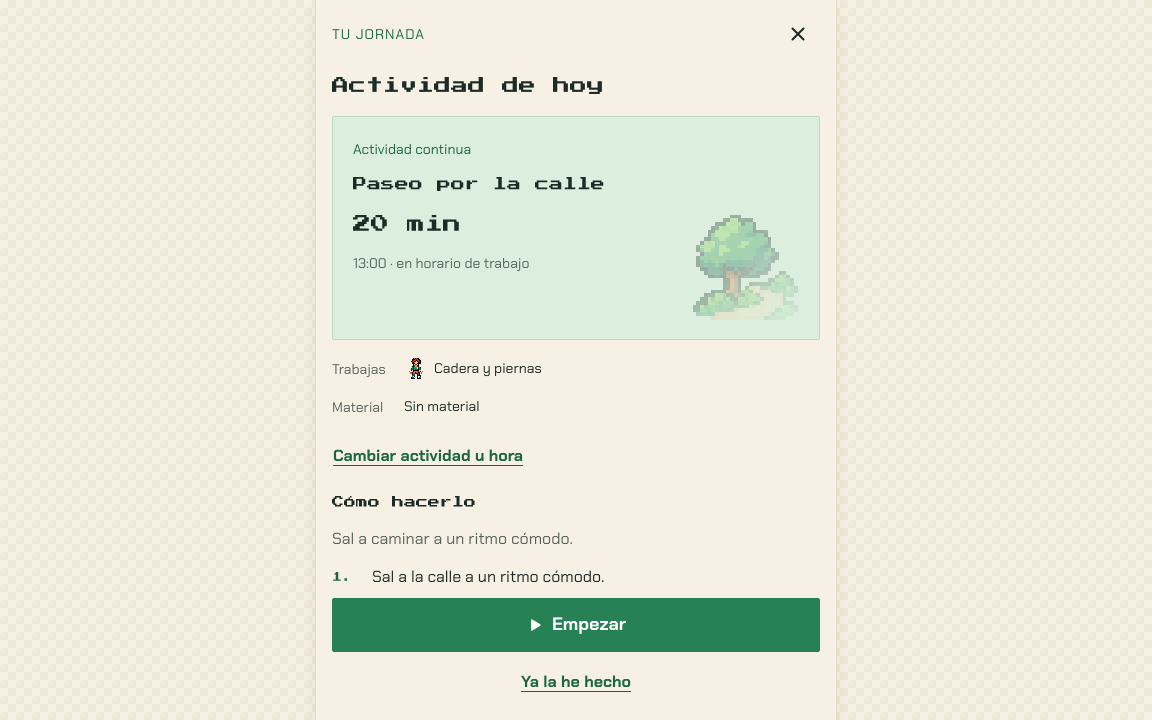
Test: main activity, before starting › changes the activity or its time, keeping the pauses
This screenshot has width=1152, height=720.
Click the button "Cambiar actividad u hora" at (428, 455), box [332, 433, 524, 477]
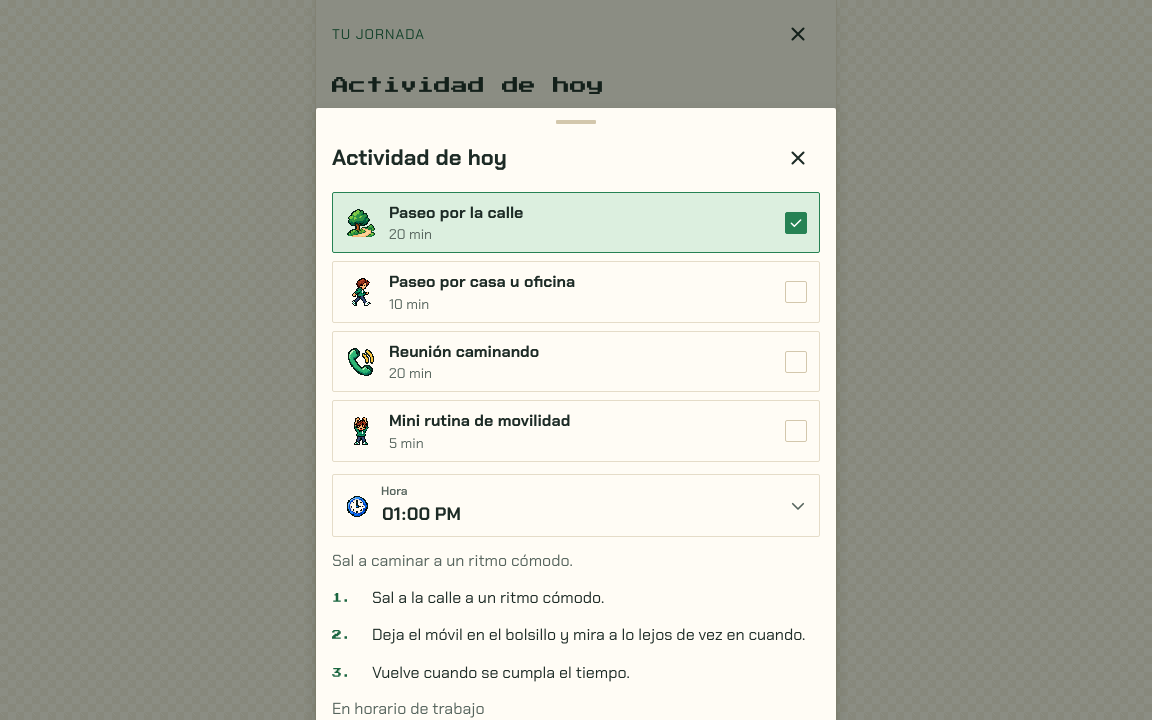
Click the radio button labelled "Paseo por casa u oficina 10 min" at (576, 292), box [332, 262, 820, 323]
(page scrolled)
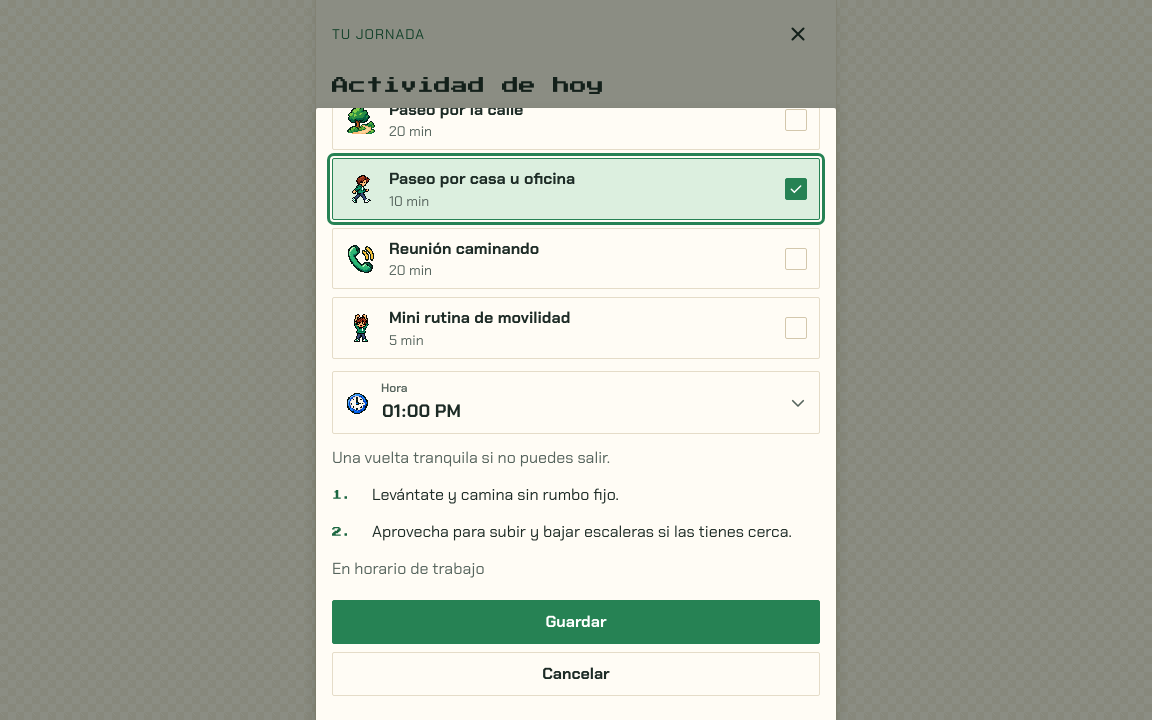
Click the button "Guardar" at (576, 622), box [332, 600, 820, 644]
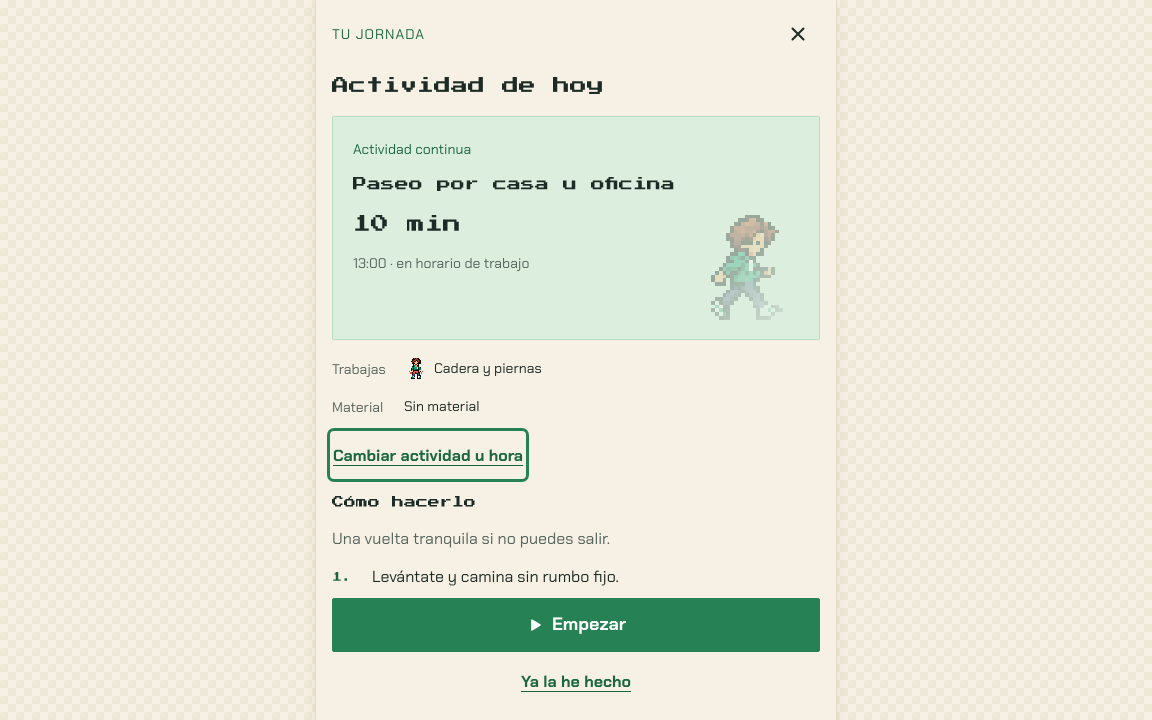
Result: the heading "Paseo por casa u oficina" is shown at [353, 173, 688, 196]
